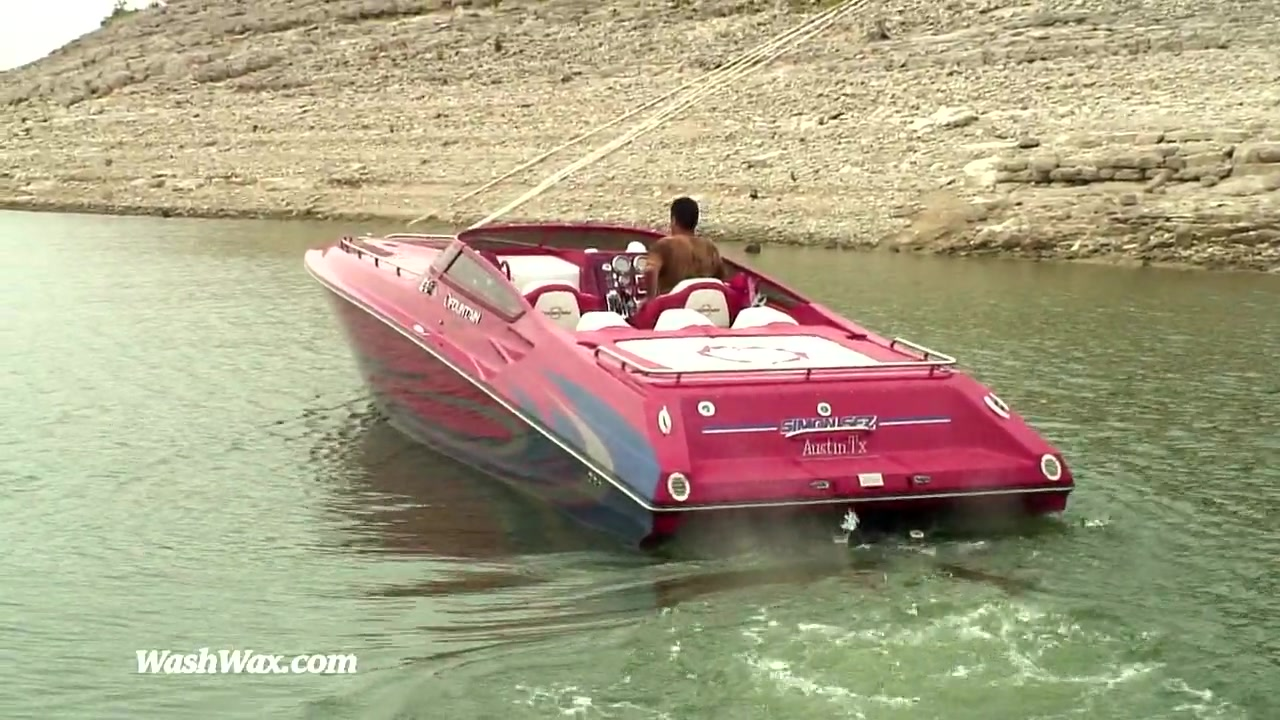boat: (304, 211, 1076, 528)
